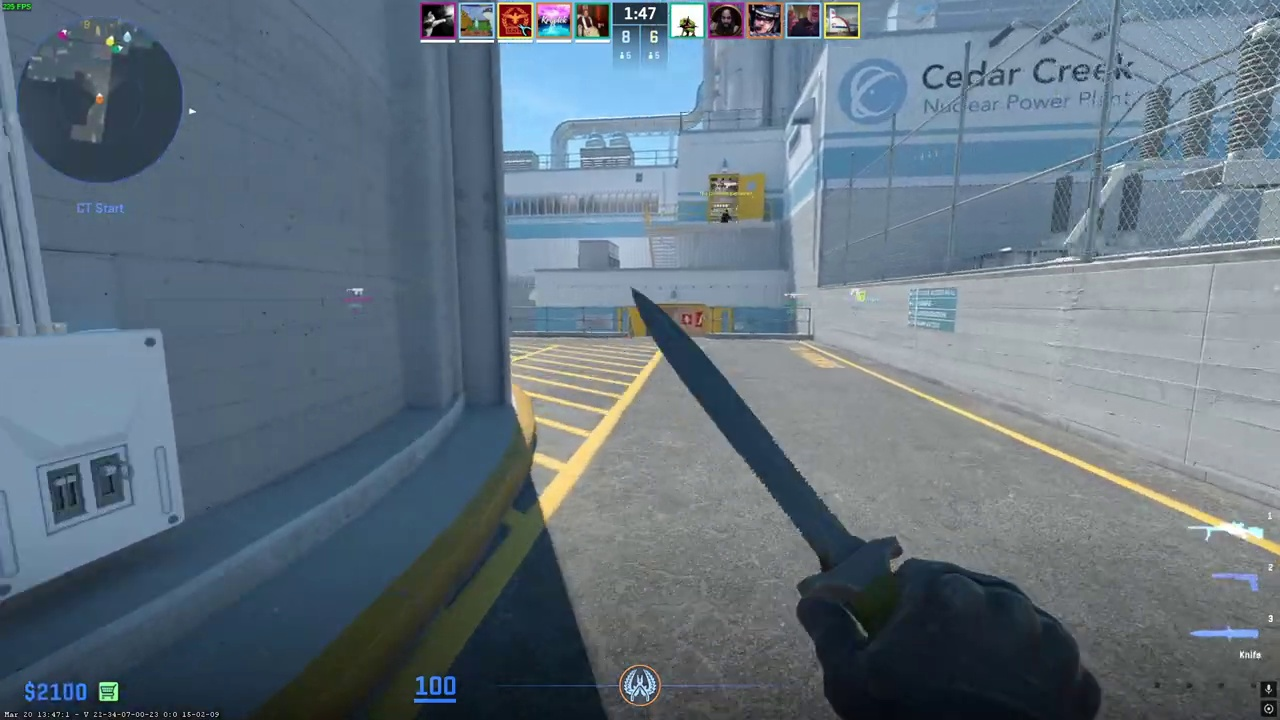Terrorist: (720, 210, 731, 223)
